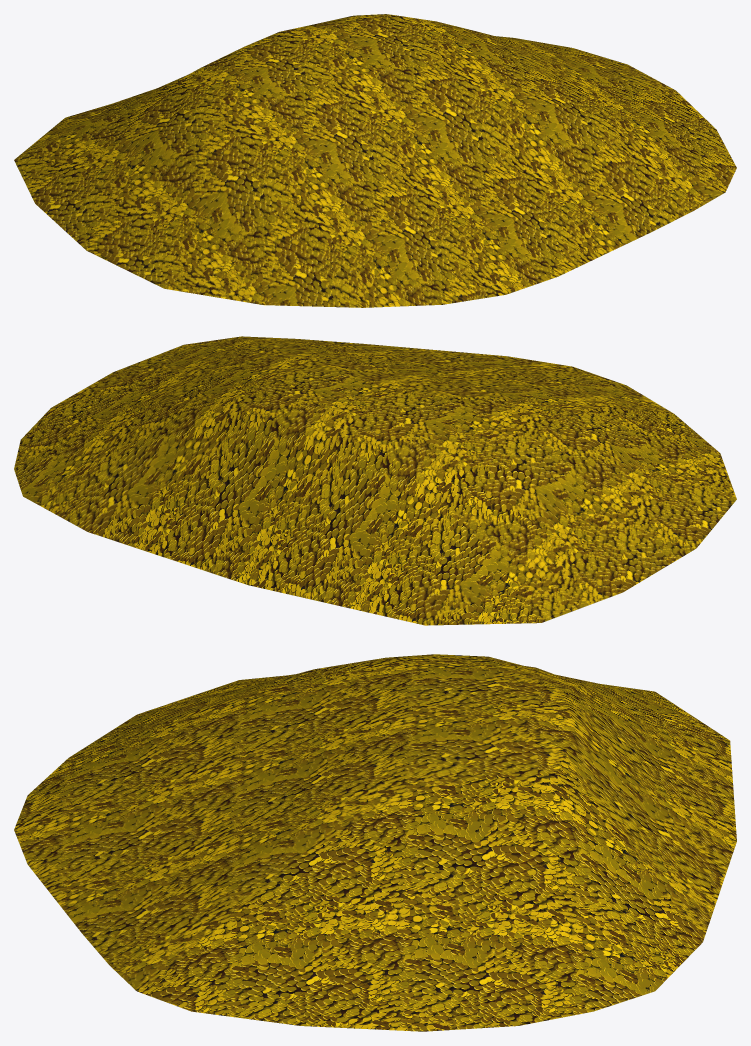
The model's file is INST_SM_GOLDPILE_LARGEA.fbx.
3 renders of one model, top to bottom at view 1: azimuth 30°, elevation 25°; view 2: azimuth 150°, elevation 25°; view 3: azimuth 270°, elevation 25°, orthographic. The views are drawn at different scales.
Parts seen in each view (by area): view 1: INST_SM_GOLDPILE_LARGEA; view 2: INST_SM_GOLDPILE_LARGEA; view 3: INST_SM_GOLDPILE_LARGEA.
Part boxes in pixels (x1,y1,x2,y2): INST_SM_GOLDPILE_LARGEA: (14, 14, 736, 307); INST_SM_GOLDPILE_LARGEA: (14, 336, 736, 625); INST_SM_GOLDPILE_LARGEA: (14, 654, 736, 1031).
Size of the model in its own units: 157500 by 26467 by 132500.
1 material, 1 textured.
